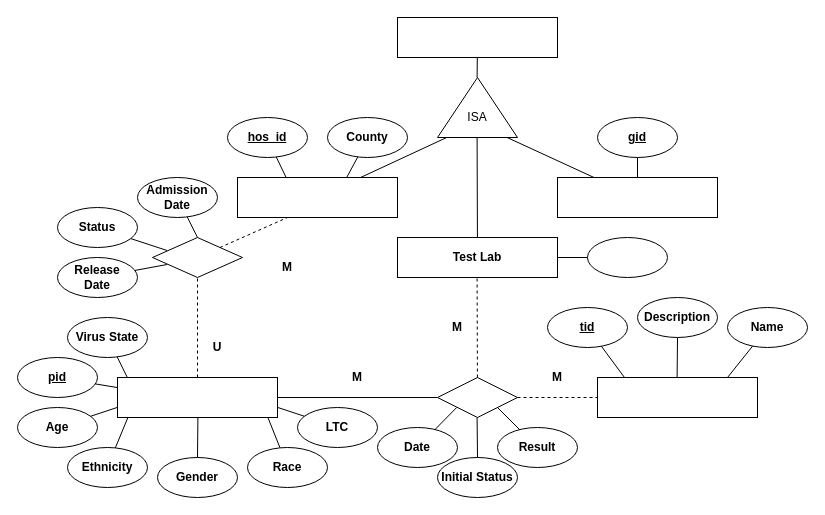
This 825x515 diagram has some shape labels left out. The centre of each missing label's shape, as x and y in pixels:
Government: [637,197]
Hospital: [317,197]
Hospitalized: [197,257]
Person: [197,397]
Test: [677,397]
Tested: [477,397]
tl_id: [627,257]
User: [477,37]
